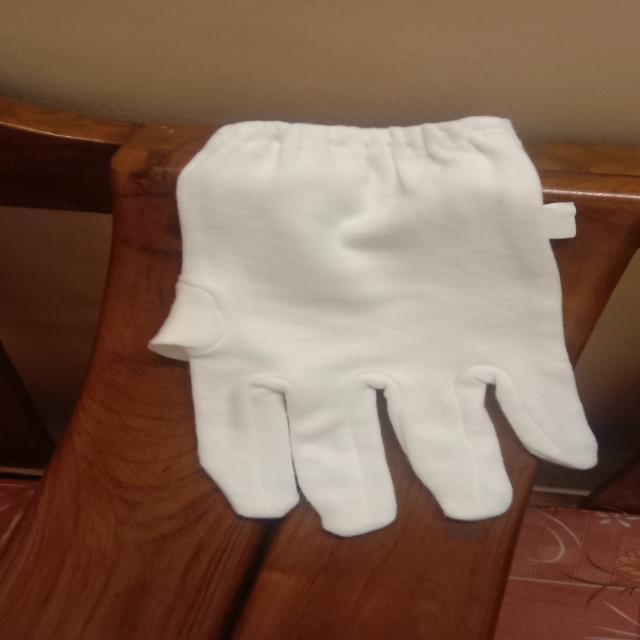glove_hand: (138, 109, 612, 540)
